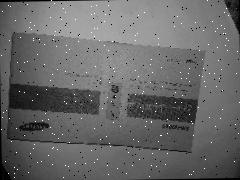paper: (5, 29, 207, 155)
